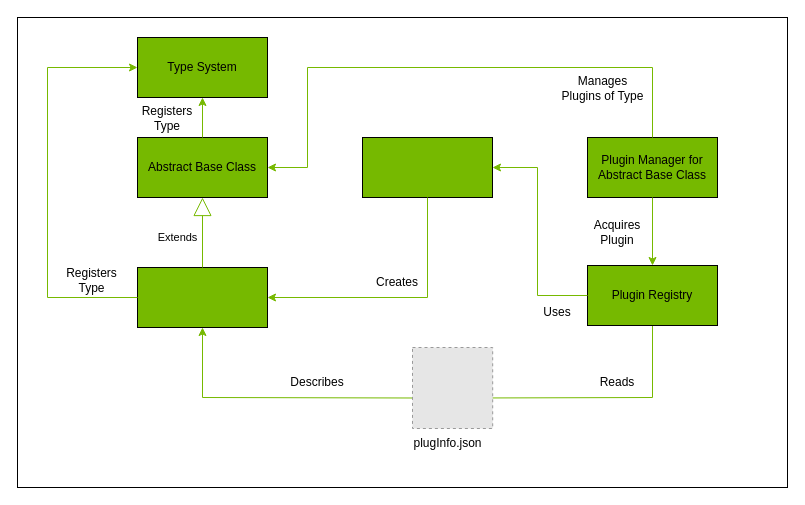
This 805x505 diagram has some shape labels left out. Grey dashed boxes stand in for pictures. Each missing label, with the centre of its shape:
Factory: (x=427, y=167)
Implementing Class: (x=202, y=297)
